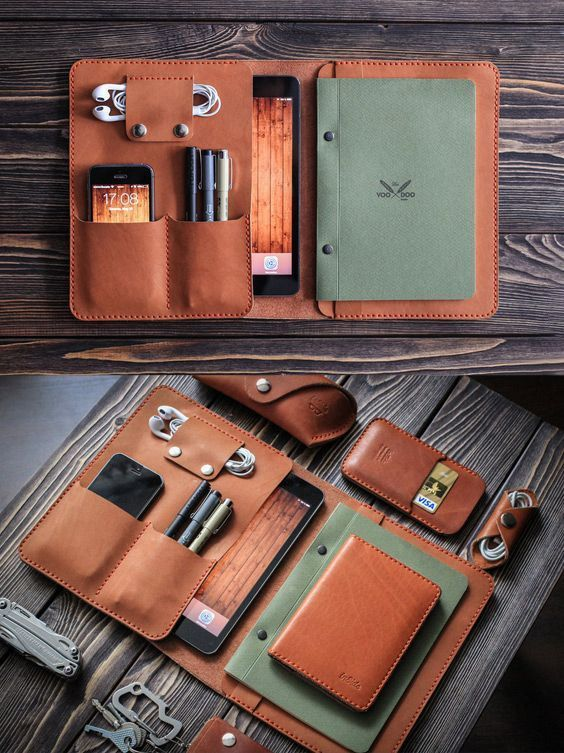cuero: (18, 55, 539, 753)
